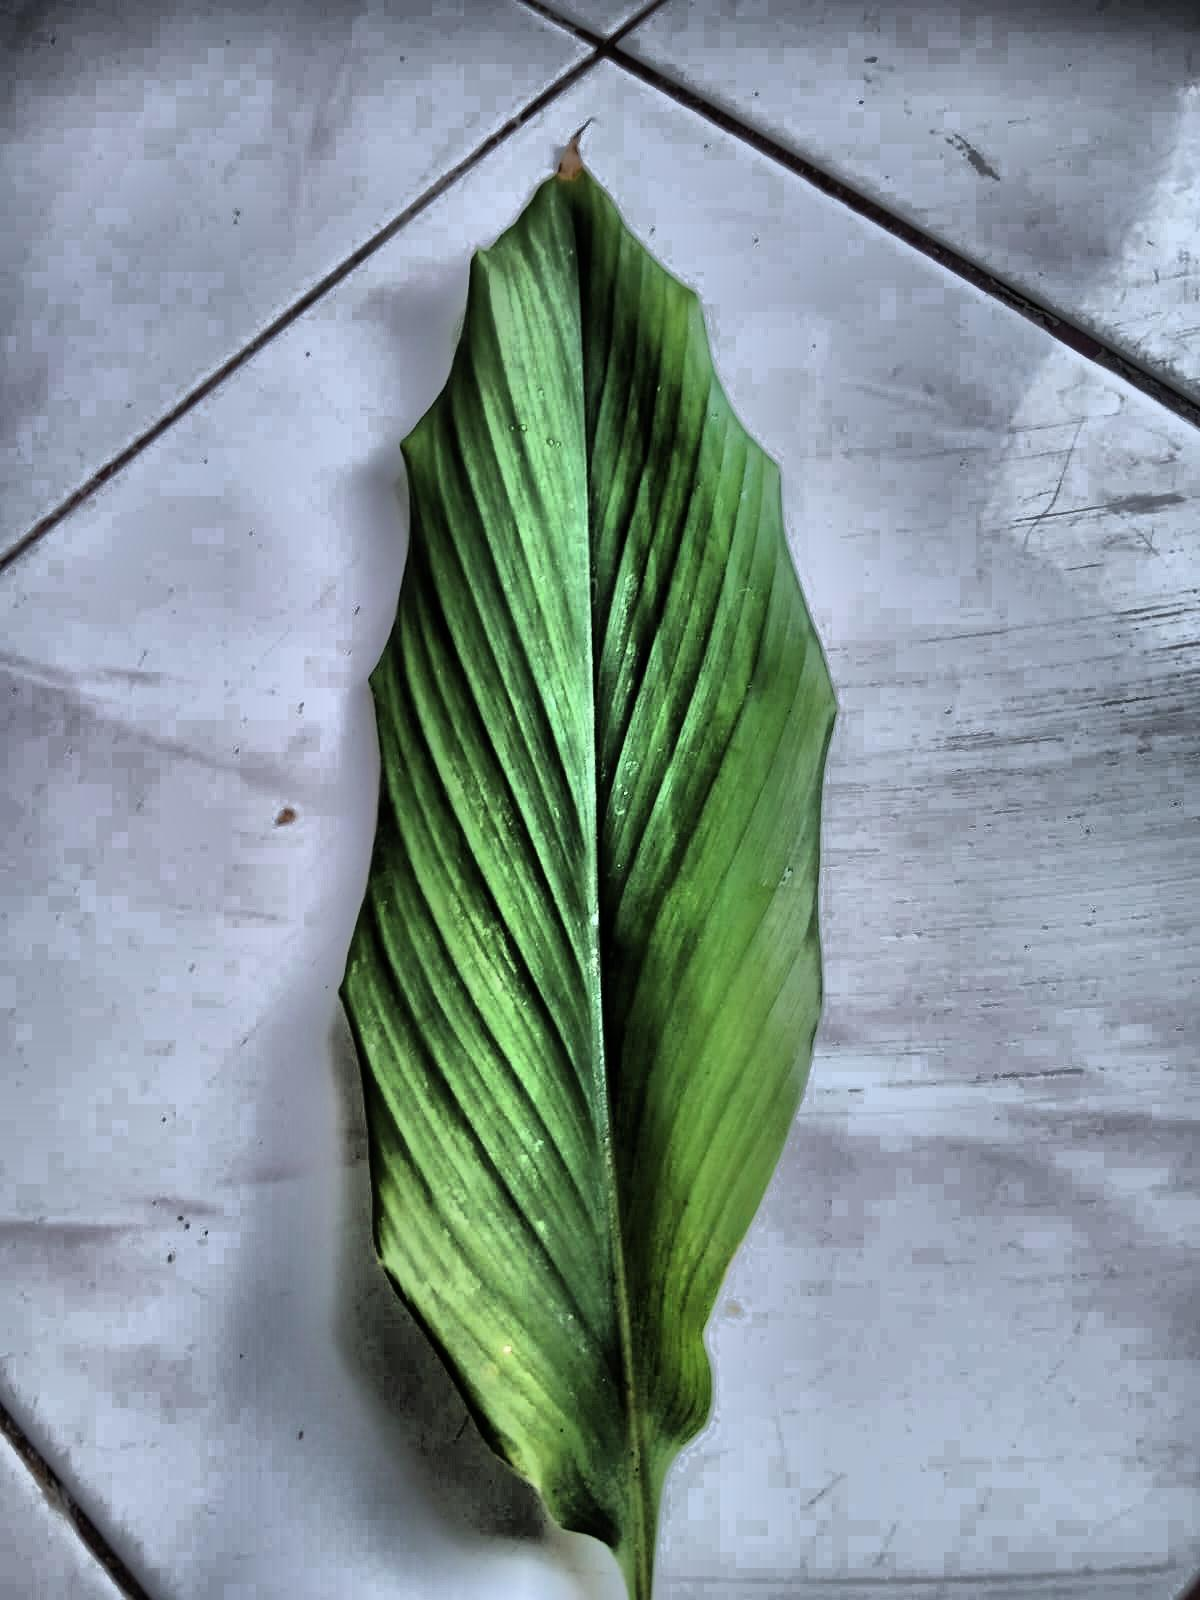daun kunyit: (342, 146, 834, 1599)
